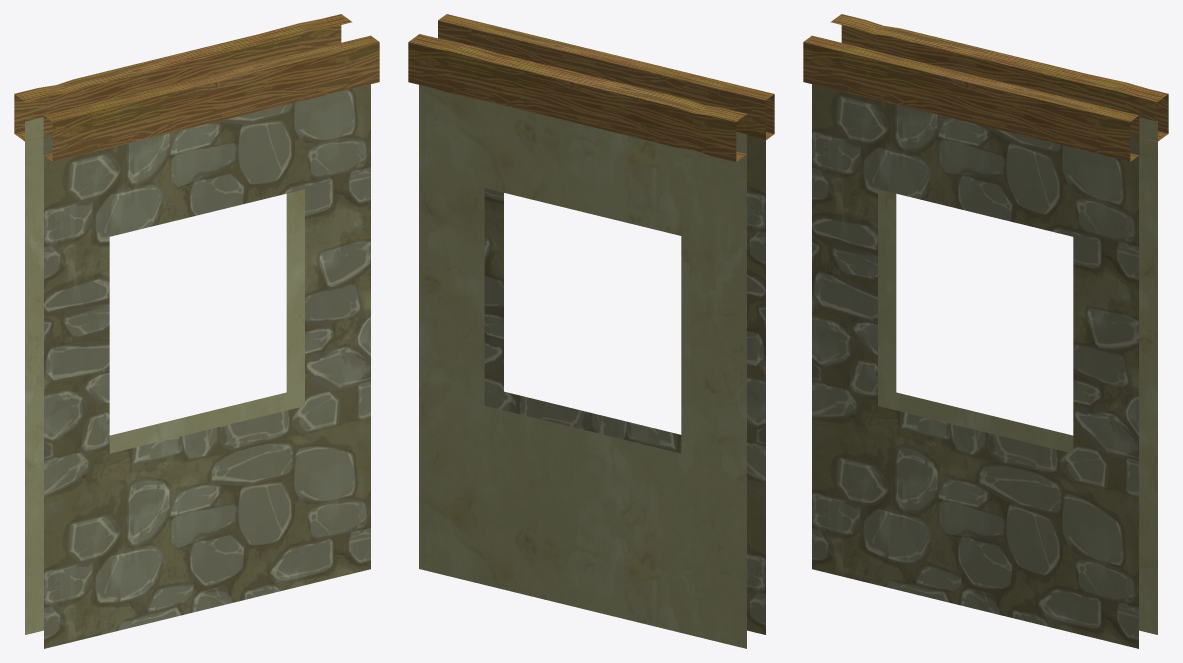
3 views of the same model, side by side, from view 1: azimuth 30°, elevation 25°; view 2: azimuth 150°, elevation 25°; view 3: azimuth 330°, elevation 25° (orthographic).
Parts seen in each view (by area): view 1: b281ab12010776ac24fa2b7b549821c83420fdfc746cd853d9e68651f0f8; view 2: b281ab12010776ac24fa2b7b549821c83420fdfc746cd853d9e68651f0f8; view 3: b281ab12010776ac24fa2b7b549821c83420fdfc746cd853d9e68651f0f8.
Part boxes in pixels (x1,y1,x2,y2): b281ab12010776ac24fa2b7b549821c83420fdfc746cd853d9e68651f0f8: (14,14,379,648); b281ab12010776ac24fa2b7b549821c83420fdfc746cd853d9e68651f0f8: (408,14,774,648); b281ab12010776ac24fa2b7b549821c83420fdfc746cd853d9e68651f0f8: (803,14,1168,648).
Bounding box in the file's own units: 2 × 3.12 × 0.4065.
3 materials, 3 textured.
